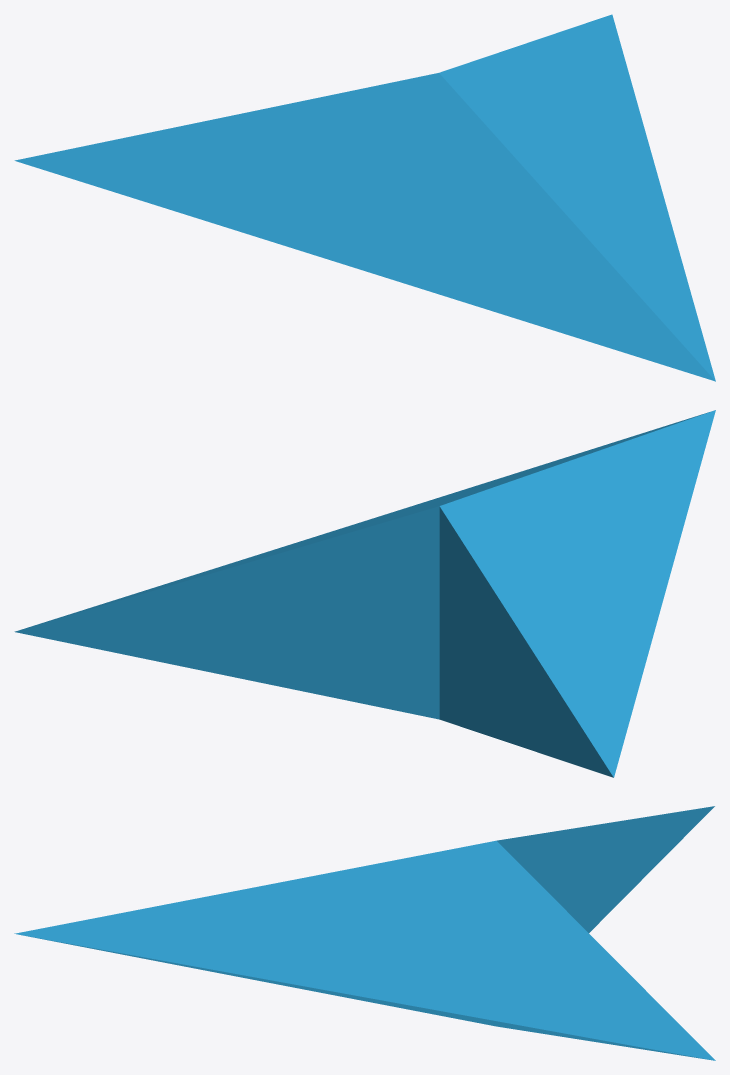
The model's file is arrowASL.glb.
3 views of the same model, one above another, from view 1: azimuth 30°, elevation 25°; view 2: azimuth 150°, elevation 25°; view 3: azimuth 270°, elevation 25° (orthographic). The views are drawn at different scales.
Parts seen in each view (by area): view 1: Mesh1_Model; view 2: Mesh1_Model; view 3: Mesh1_Model.
Boxes of the visible parts, left/top/right/bottom form: Mesh1_Model: left=14, top=14, right=715, bottom=381; Mesh1_Model: left=14, top=410, right=715, bottom=777; Mesh1_Model: left=14, top=806, right=715, bottom=1060.
Size of the model in its own units: 0.0294 by 0.01 by 0.0342.
